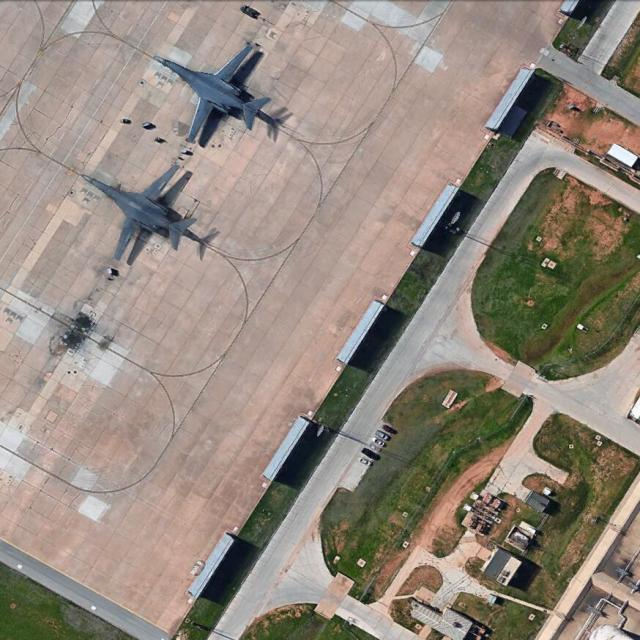fighter jet: (161, 41, 276, 152), (78, 150, 195, 256)
